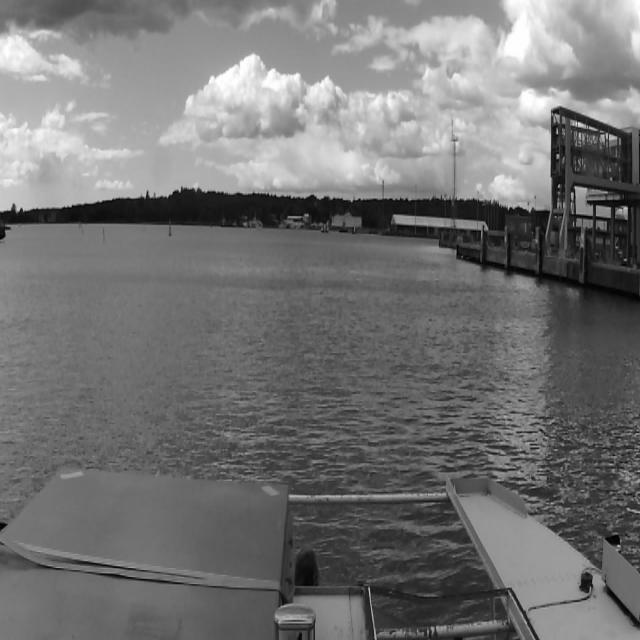buoy: (169, 220, 171, 236)
ship: (242, 220, 248, 228), (231, 221, 237, 227), (222, 220, 224, 227)
